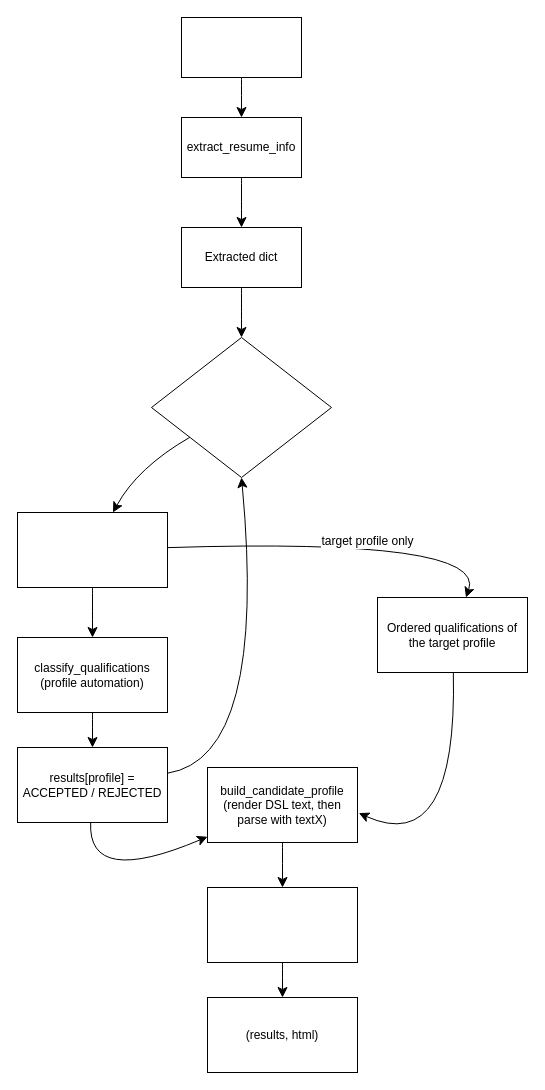
This 545x1090 diagram has some shape labels left out. The shapes that lost their labels are listed below. From the top down, each one's centre as x and y in pixels, then its label:
[241,47]: Resume text(.txt)
[241,407]: For each of the 4 profiles
[92,550]: normalize_resume_info (transducers + canonical order)
[282,924]: render_html
